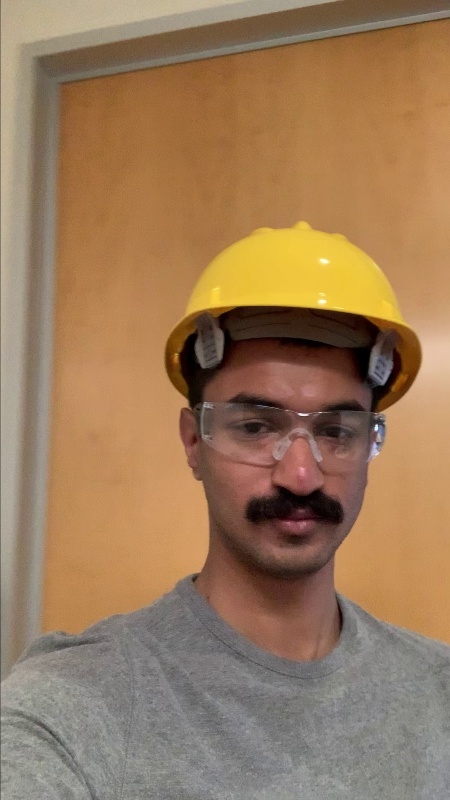glasses: (187, 396, 387, 465)
helmet: (162, 214, 430, 364)
